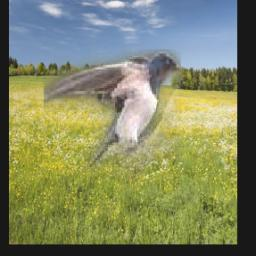Swallow: (44, 50, 181, 183)
